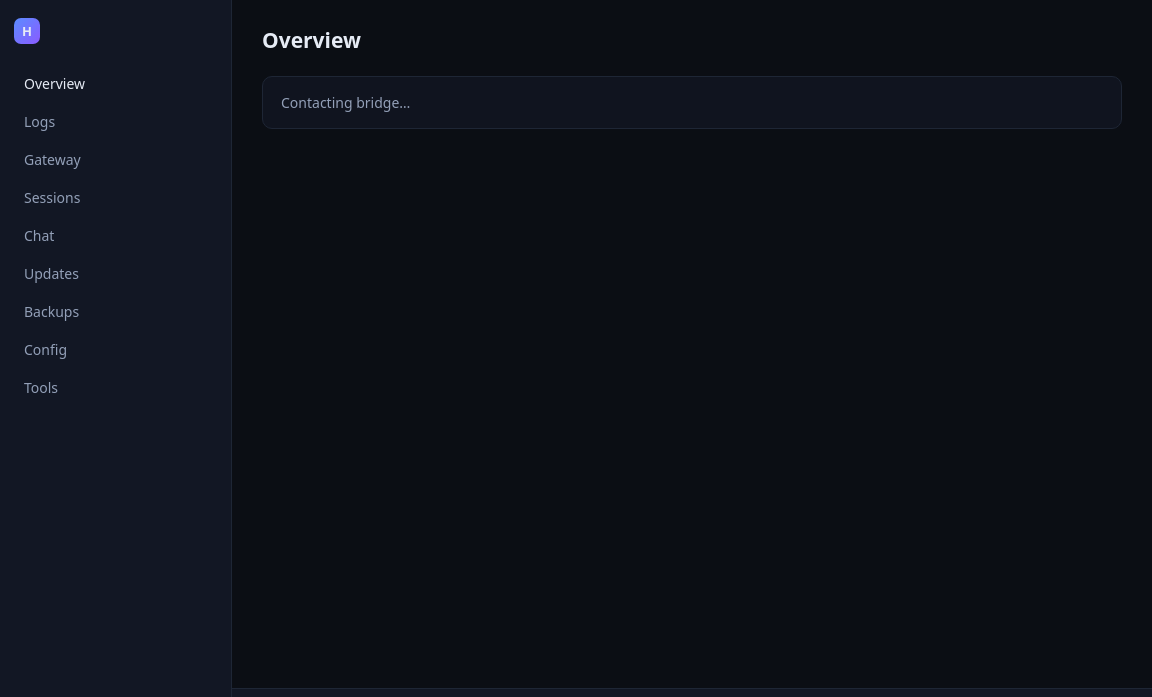
config unsaved-change guard › invalidates a stale diff when edits change after review
Click the button with test id "nav-config". click: (116, 350)
box: top-left (14, 332), bottom-right (217, 367)
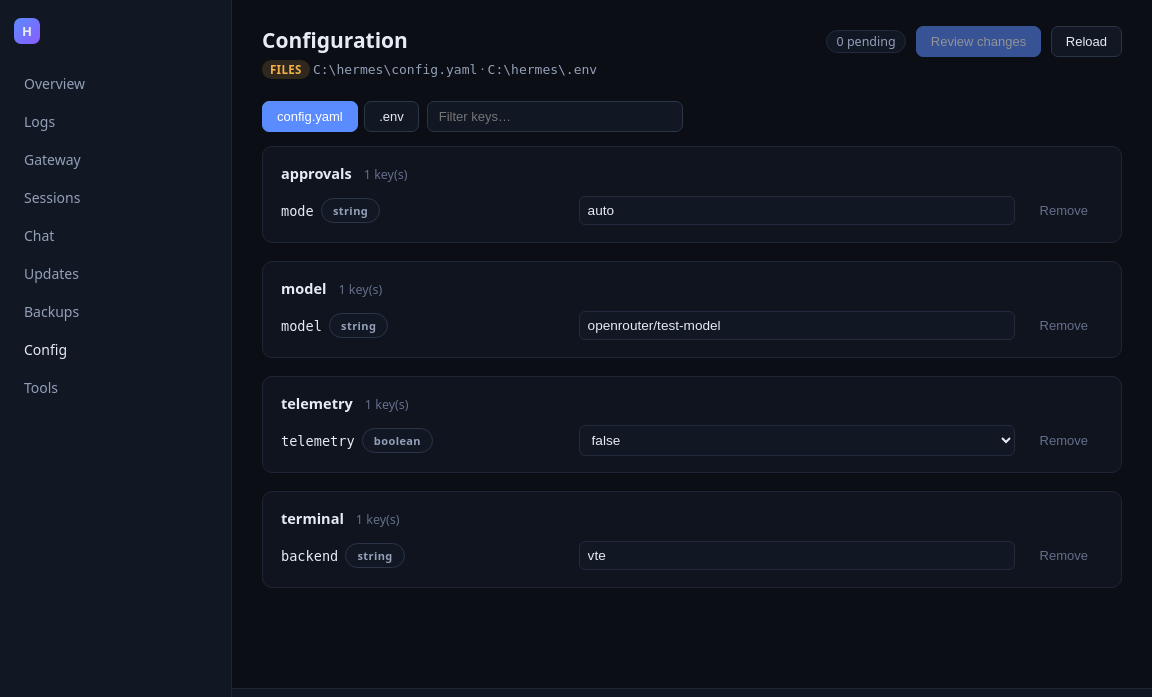
Replace the text in the field with test id "field-model" with "openrouter/first". click: (797, 326)
box: top-left (579, 311), bottom-right (1015, 340)
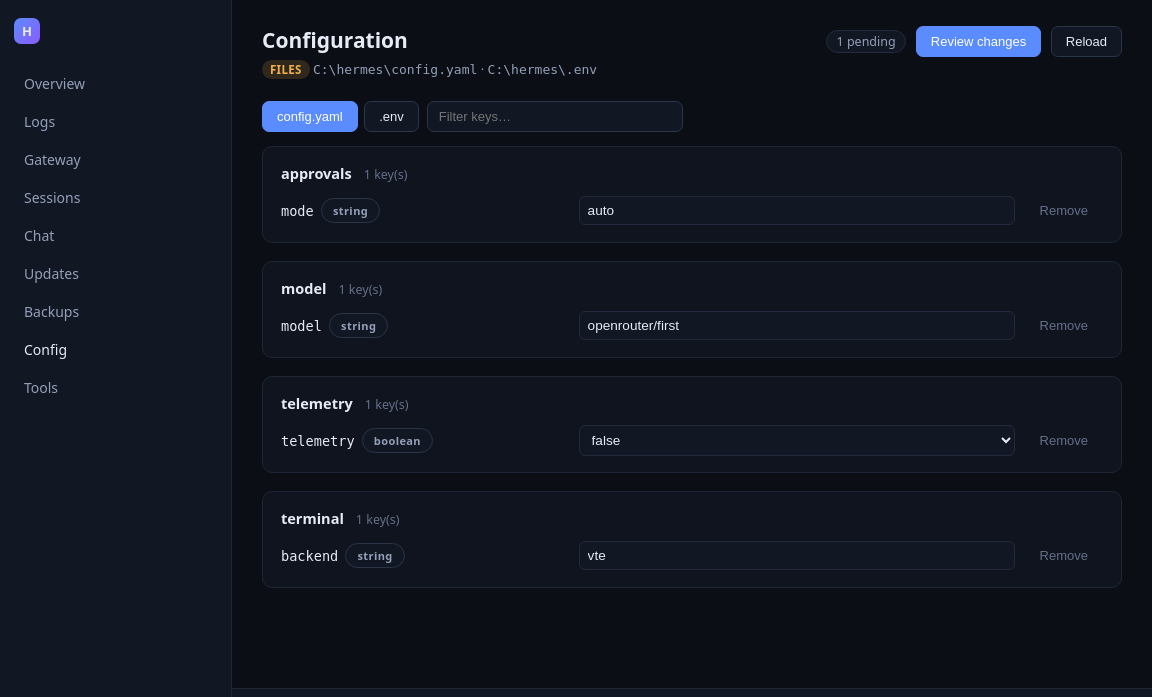
Click the button with test id "review-changes". click: (978, 42)
box: top-left (916, 26), bottom-right (1041, 57)
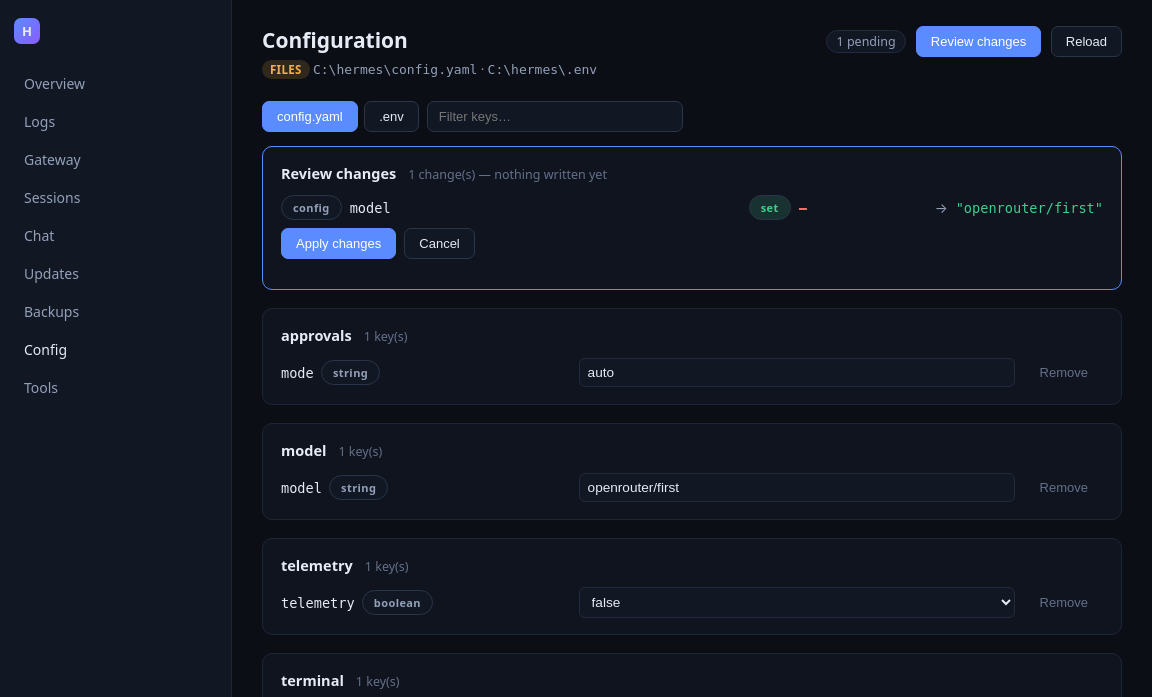
Check: the element with test id "diff-panel" is shown, box top-left (262, 146), bottom-right (1122, 290)
Replace the text in the field with test id "field-model" with "openrouter/second". click: (797, 488)
box: top-left (579, 473), bottom-right (1015, 502)
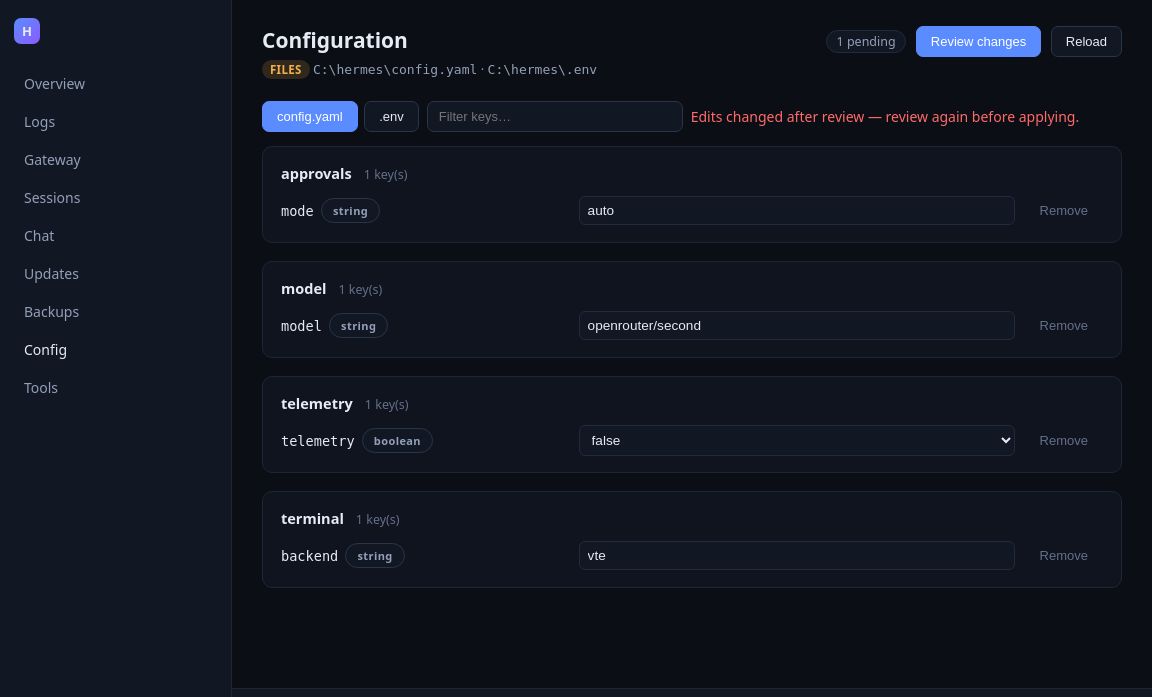
Check: the element with test id "diff-panel" is gone
Check: the message with test id "config-error" shows "review again", box top-left (691, 107), bottom-right (1079, 126)
